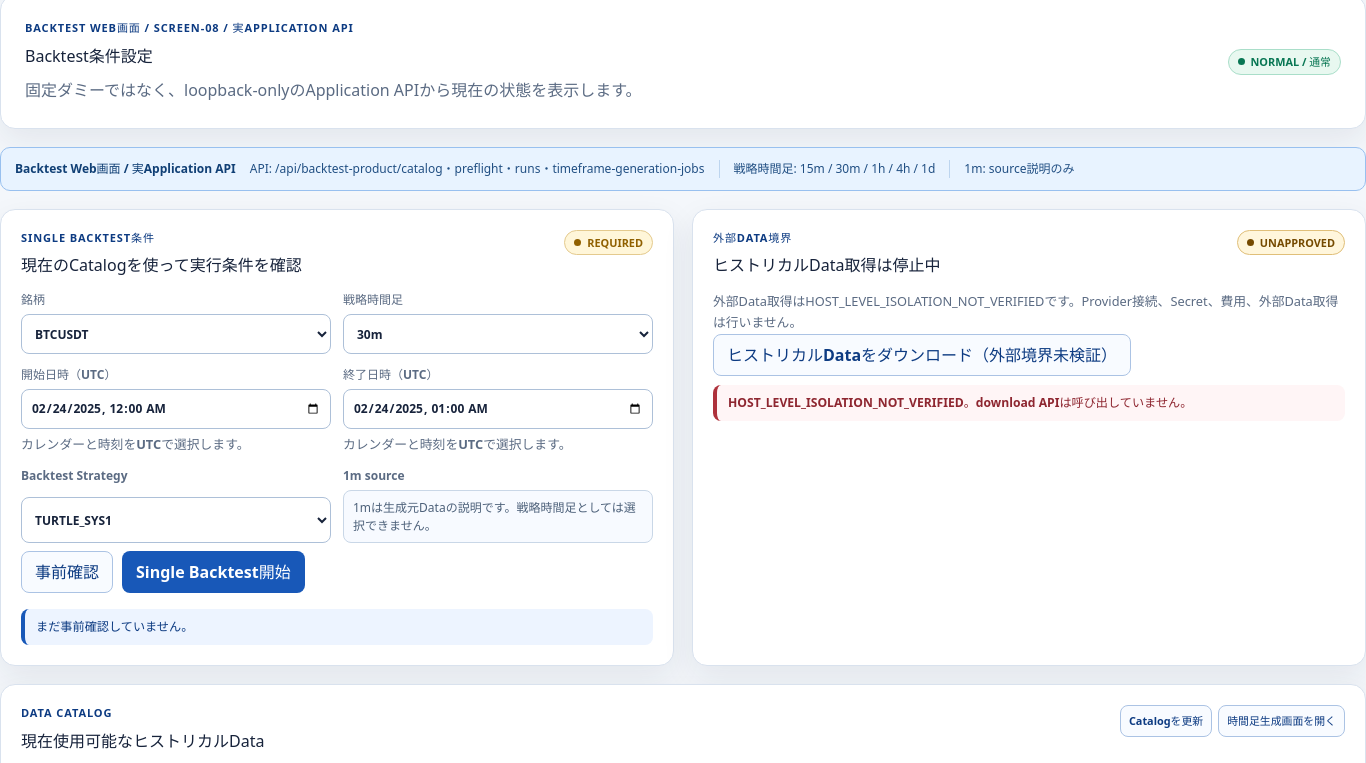
Test: BacktestProduct Web Product UI › does not create a generation job when the selected range exceeds source coverage
The width and height of the screenshot is (1366, 763).
Click the button "時間足生成画面を開く" at (1282, 721), box [1218, 705, 1345, 737]
(page scrolled)
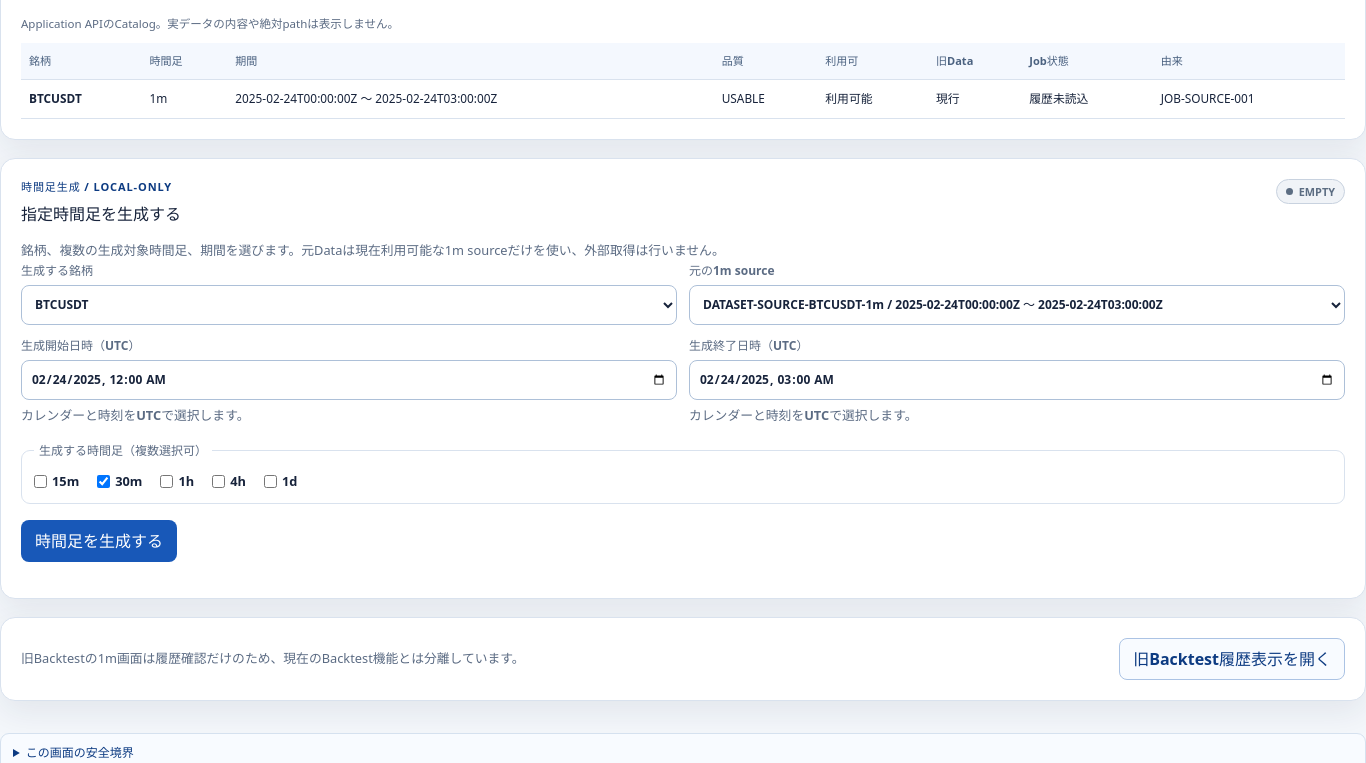
Replace the text in the field labelled "生成終了日時（UTC）" with "2025-02-24T04:00" at (1017, 380), box [689, 360, 1345, 400]
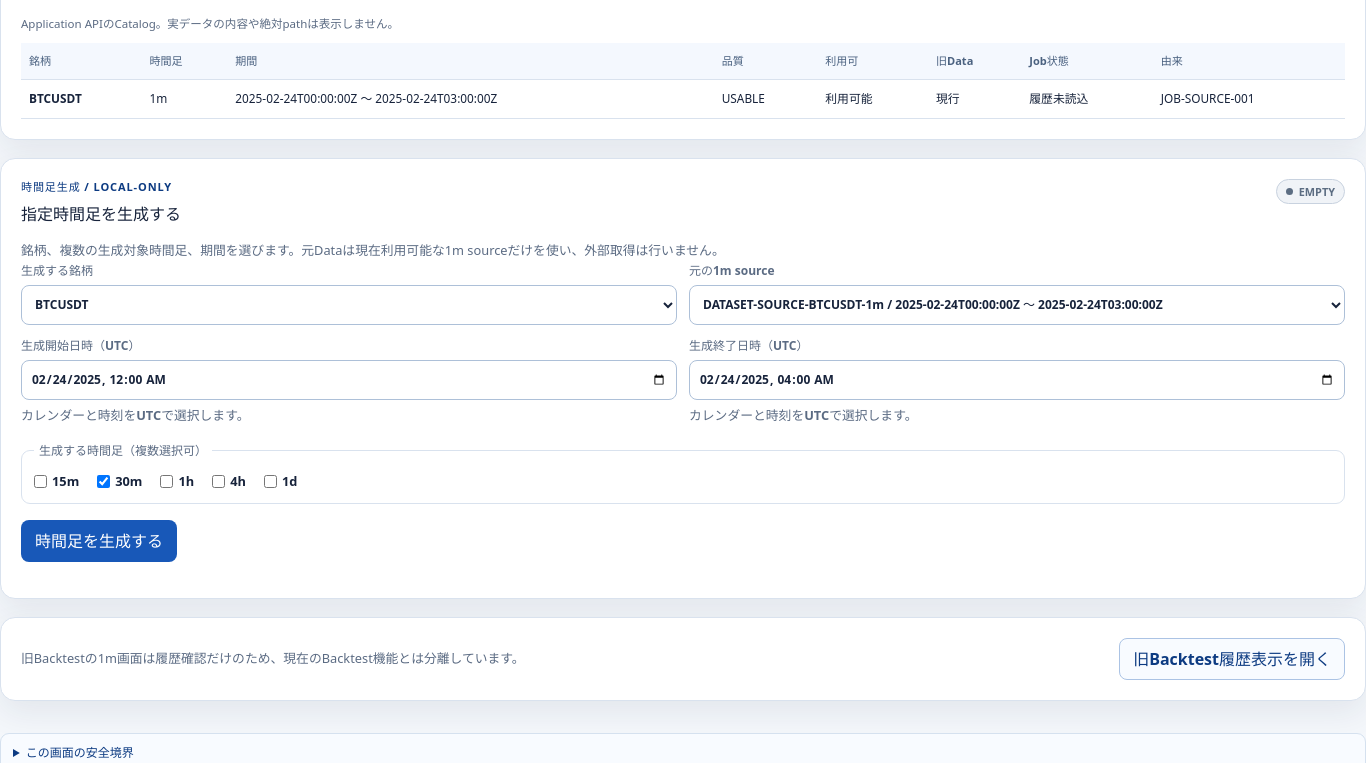
Click the button "時間足を生成する" at (99, 541), box [21, 520, 177, 562]
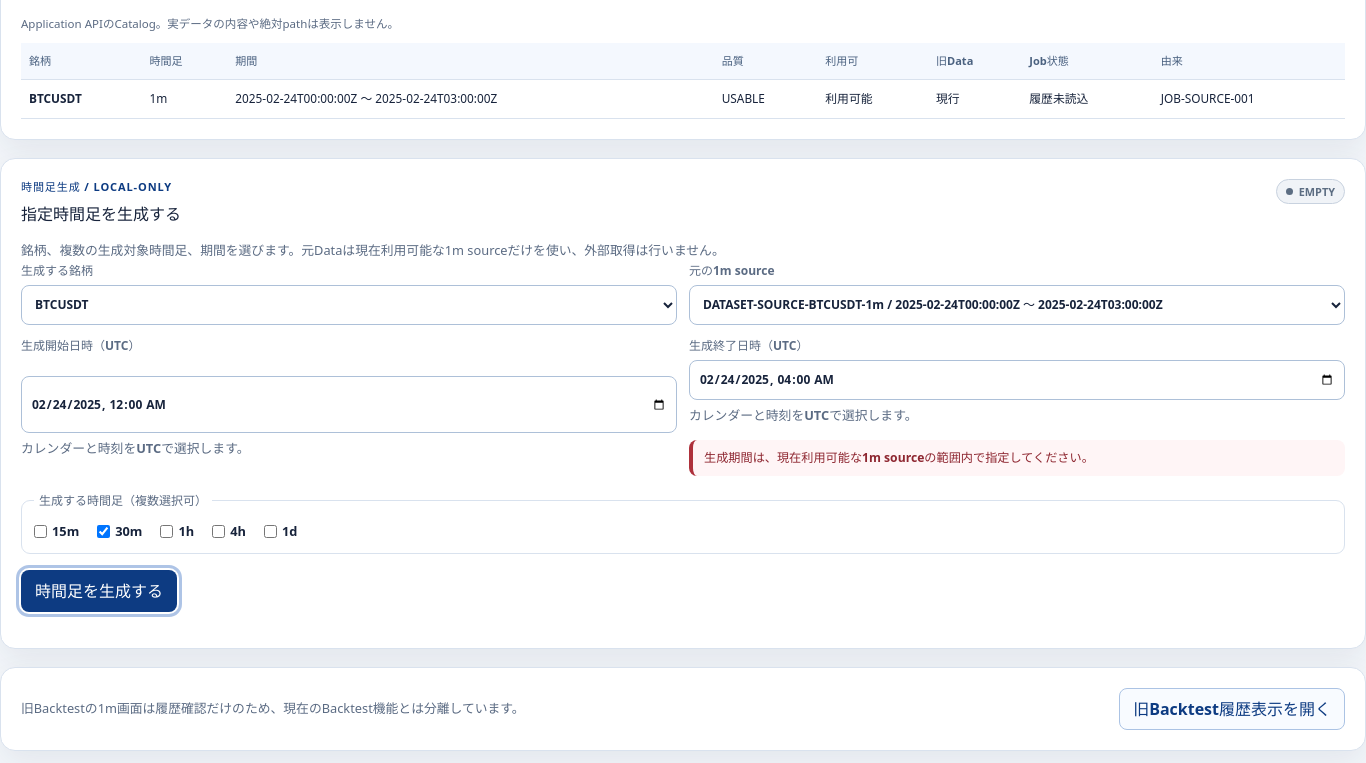
Now the text "生成期間は、現在利用可能な1m sourceの範囲内で指定してください。" is shown, box [689, 440, 1345, 476]
